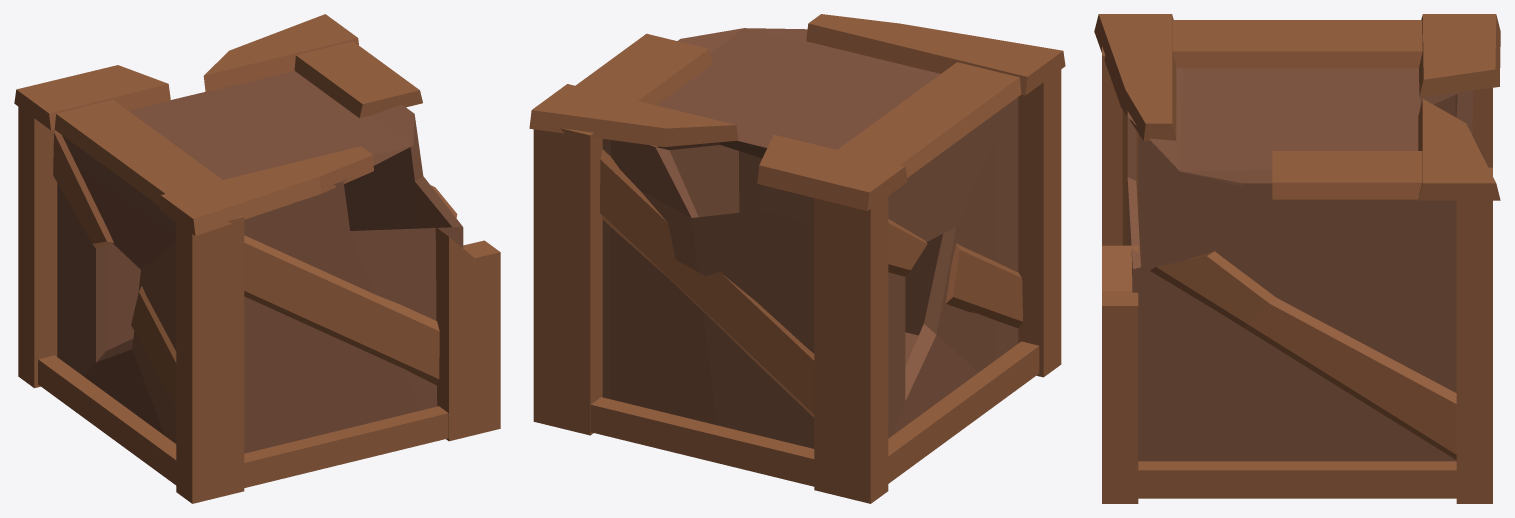
Rendered from Caixa_1_quebrada.fbx.
The picture shows the model from 3 angles, left to right: view 1: azimuth 30°, elevation 25°; view 2: azimuth 150°, elevation 25°; view 3: azimuth 270°, elevation 25°; orthographic projection. The views are drawn at different scales.
Parts seen in each view (by area): view 1: Caixa_1_quebrada; view 2: Caixa_1_quebrada; view 3: Caixa_1_quebrada.
Part boxes in pixels (<box>): Caixa_1_quebrada: <box>14,14,500,503</box>; Caixa_1_quebrada: <box>529,14,1065,503</box>; Caixa_1_quebrada: <box>1094,14,1500,503</box>.
Bounding box in the file's own units: 0.9783 × 0.964 × 0.8524.
